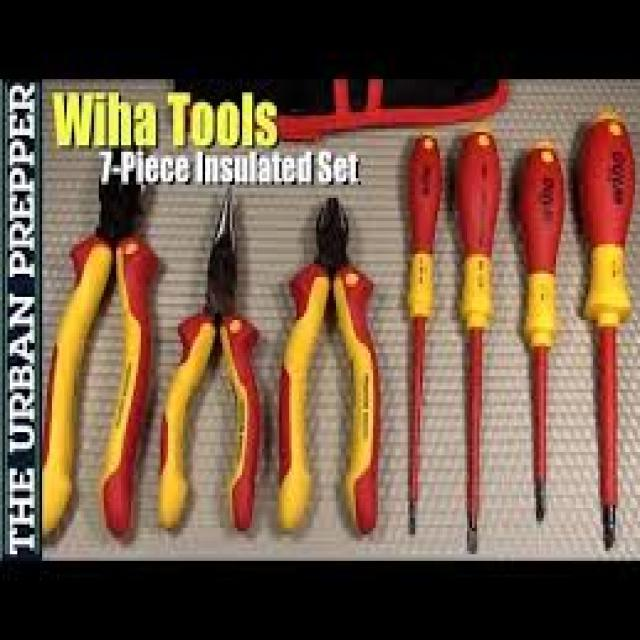pliers: (19, 138, 170, 546), (270, 185, 389, 543), (154, 170, 268, 542)
screwdriver: (563, 99, 640, 548), (444, 119, 511, 552), (511, 137, 574, 520), (397, 125, 446, 540)
